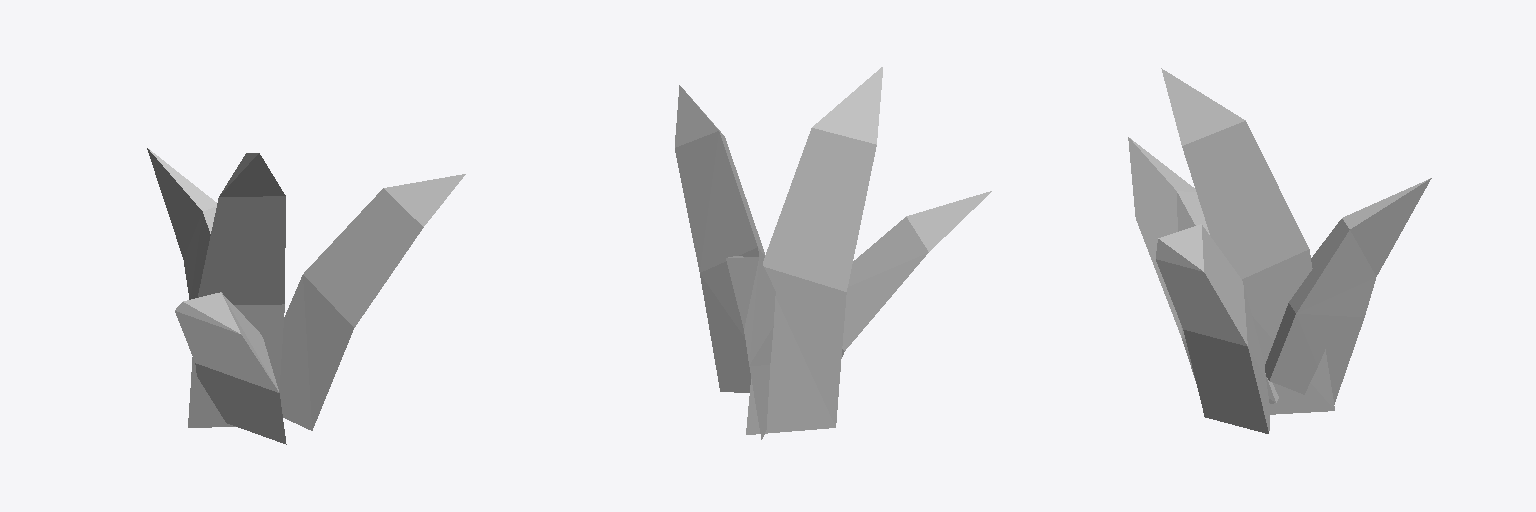
The model's file is GrassBunch5.obj.
3 views of the same model, side by side, from view 1: azimuth 30°, elevation 25°; view 2: azimuth 150°, elevation 25°; view 3: azimuth 270°, elevation 25° (orthographic).
Visible parts, largest first — view 1: GrassBunch5_Circle.036; view 2: GrassBunch5_Circle.036; view 3: GrassBunch5_Circle.036.
Boxes of the visible parts, <box> form: GrassBunch5_Circle.036: <box>147,148,465,444</box>; GrassBunch5_Circle.036: <box>675,67,991,439</box>; GrassBunch5_Circle.036: <box>1128,68,1431,433</box>.
Size of the model in its own units: 0.5767 by 0.5921 by 0.5076.